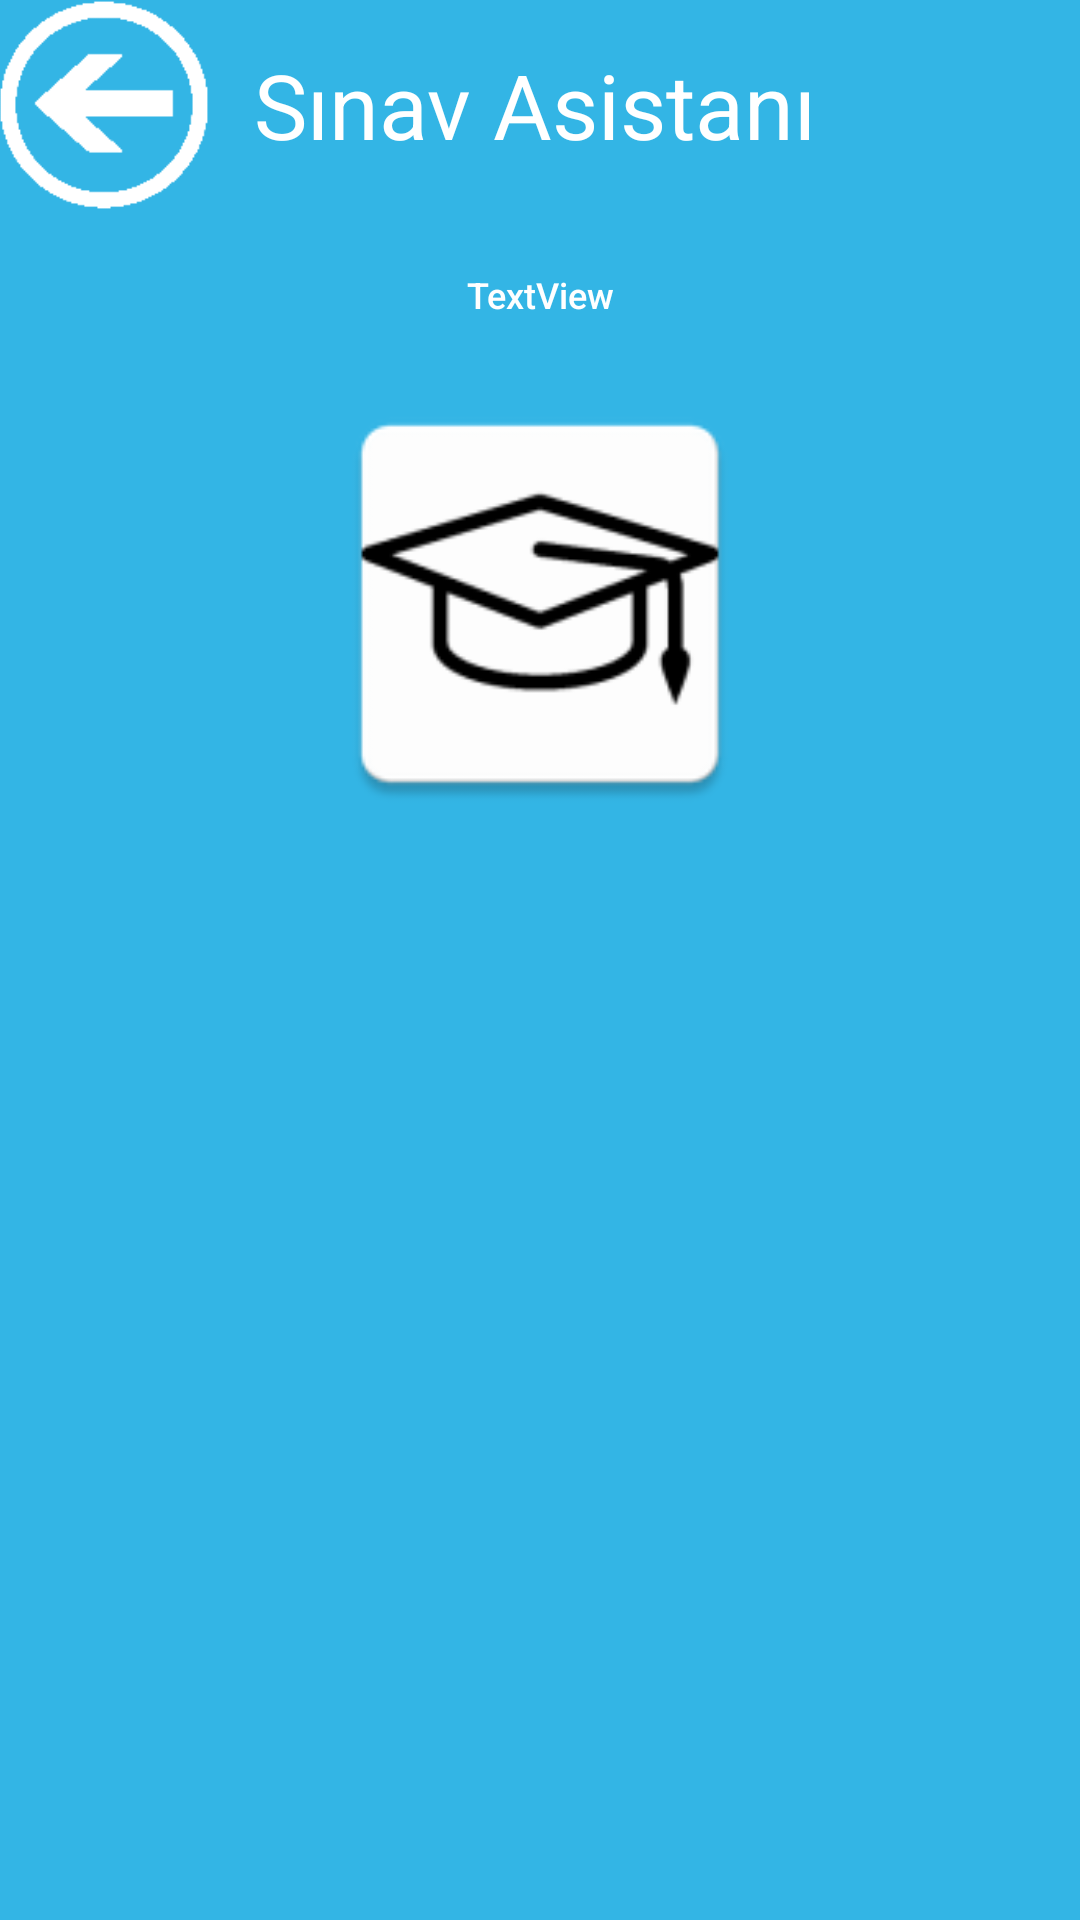

Locate icon controls on the screen. Image size 1080*1920, boxes as (x1=x1, y1=y1, x2=x2, y2=y2).
back: (x1=0, y1=1, x2=208, y2=209)
